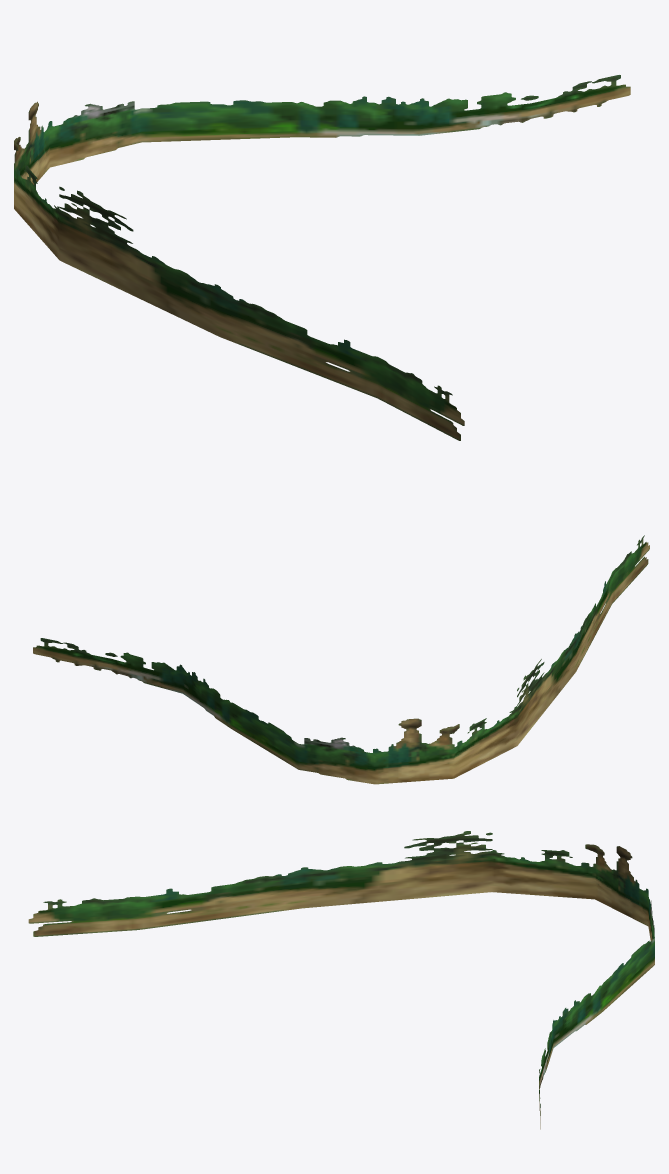
The model's file is FP_jog_island.md.026.obj.
3 renders of one model, top to bottom at view 1: azimuth 30°, elevation 25°; view 2: azimuth 150°, elevation 25°; view 3: azimuth 270°, elevation 25°, orthographic. The views are drawn at different scales.
Parts seen in each view (by area): view 1: FP_jog_island.mo.026; view 2: FP_jog_island.mo.026; view 3: FP_jog_island.mo.026.
Boxes of the visible parts, <box> form: FP_jog_island.mo.026: <box>14,75,630,440</box>; FP_jog_island.mo.026: <box>33,535,649,784</box>; FP_jog_island.mo.026: <box>28,831,654,1129</box>.
Bounding box in the file's own units: 73.68 × 13.08 × 81.51.
1 material, 1 textured.
